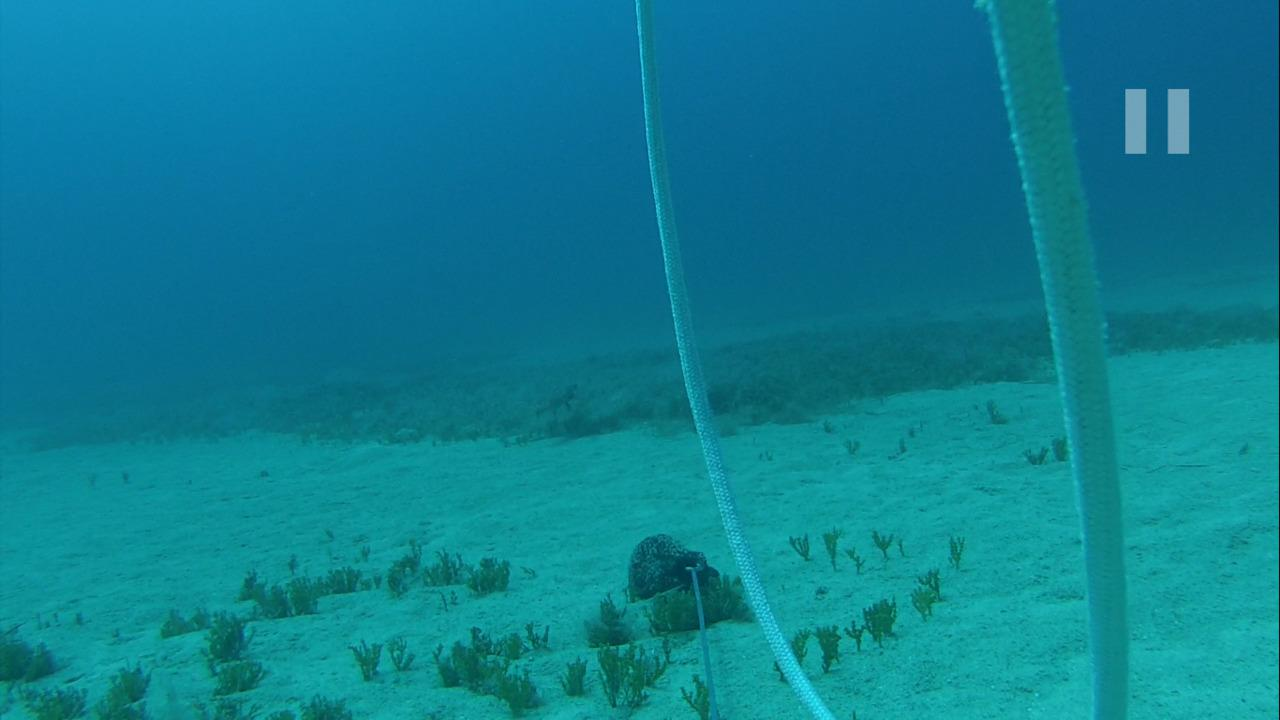dactylopterus: (501, 385, 584, 426)
